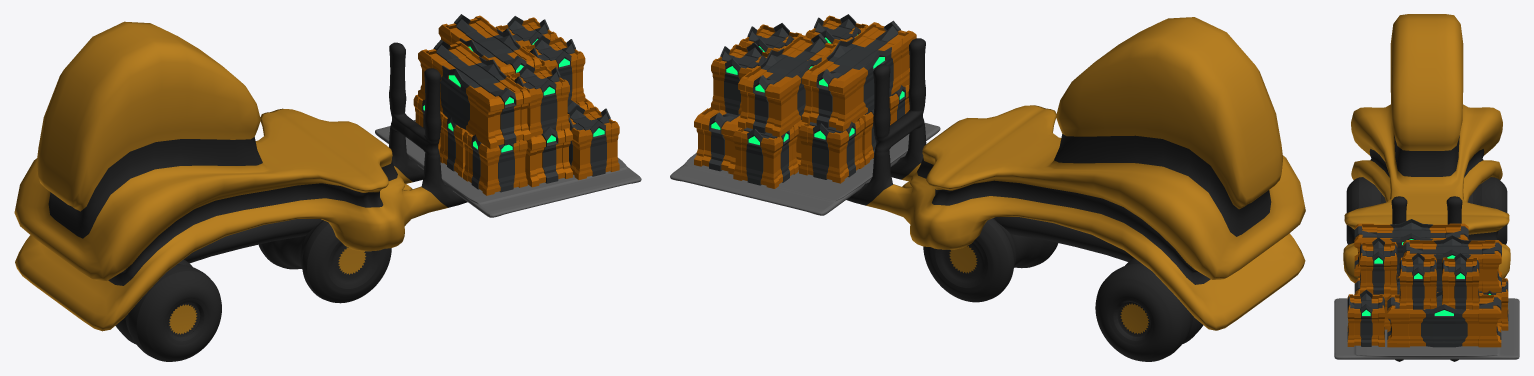
Rendered from ForkLiftShipping.fbx.
3 renders of one model, left to right at view 1: azimuth 30°, elevation 25°; view 2: azimuth 150°, elevation 25°; view 3: azimuth 270°, elevation 25°, orthographic. The views are drawn at different scales.
Visible parts, largest first — view 1: Cube.034, Cube.043, Cylinder.005, Cylinder.006, Cube.033, Cube.039, Cube.036, Cube.046, Cube.044, Cube.037, Cube.035, Cube.045 (+2 smaller); view 2: Cube.034, Cube.043, Cylinder.005, Cylinder.006, Cube.046, Cube.033, Cube.041, Cube.042, Cube.047, Cube.038, Cube.035, Cube.044 (+3 smaller); view 3: Cube.034, Cube.038, Cube.033, Cube.046, Cube.043, Cylinder.005, Cube.039, Cube.045, Cube.044, Cube.047, Cube.042, Cube.037.
Boxes of the visible parts, x1,y1,x2,y2 form: Cube.034: (14, 21, 467, 331); Cube.043: (418, 40, 531, 149); Cylinder.005: (115, 259, 221, 361); Cylinder.006: (258, 220, 391, 303); Cube.033: (375, 120, 641, 217); Cube.039: (567, 105, 619, 179); Cube.036: (463, 131, 527, 195); Cube.046: (438, 14, 541, 75); Cube.044: (507, 64, 569, 136); Cube.037: (525, 126, 572, 187); Cube.035: (184, 219, 322, 263); Cube.045: (522, 35, 585, 102); Cube.034: (846, 17, 1305, 330); Cube.043: (801, 20, 916, 131); Cylinder.005: (1095, 258, 1203, 361); Cylinder.006: (923, 218, 1058, 302); Cube.046: (738, 33, 837, 137); Cube.033: (670, 123, 940, 215); Cube.041: (799, 118, 864, 183); Cube.042: (733, 123, 798, 188); Cube.047: (711, 43, 769, 115); Cube.038: (694, 107, 740, 174); Cube.035: (993, 217, 1133, 261); Cube.044: (805, 14, 868, 44); Cube.034: (1343, 14, 1510, 361); Cube.038: (1387, 291, 1501, 347); Cube.033: (1334, 298, 1519, 359); Cube.046: (1403, 235, 1501, 292); Cube.043: (1354, 219, 1468, 276); Cylinder.005: (1346, 177, 1507, 244); Cube.039: (1347, 289, 1384, 346); Cube.045: (1399, 253, 1436, 309); Cube.044: (1360, 237, 1397, 294); Cube.047: (1442, 253, 1479, 309); Cube.042: (1479, 278, 1508, 330); Cube.037: (1354, 278, 1438, 329).
Bounding box in the file's own units: 2591 × 1382 × 994.
